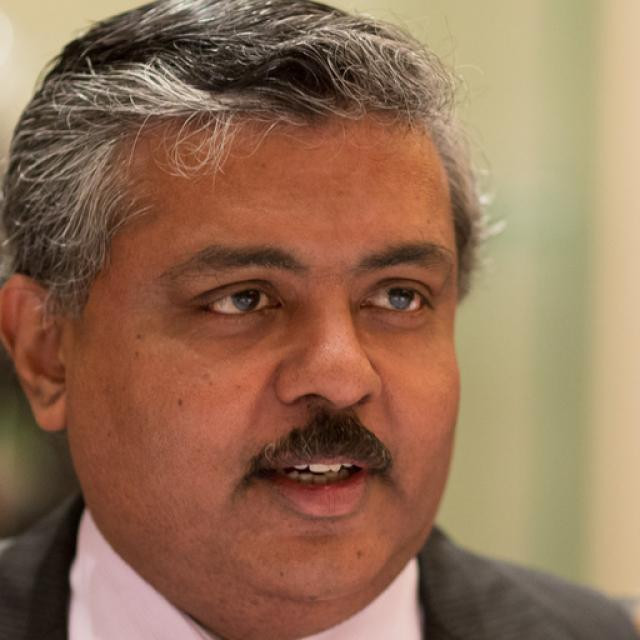Dark Circle: (192, 311, 279, 358), (361, 309, 434, 347)
